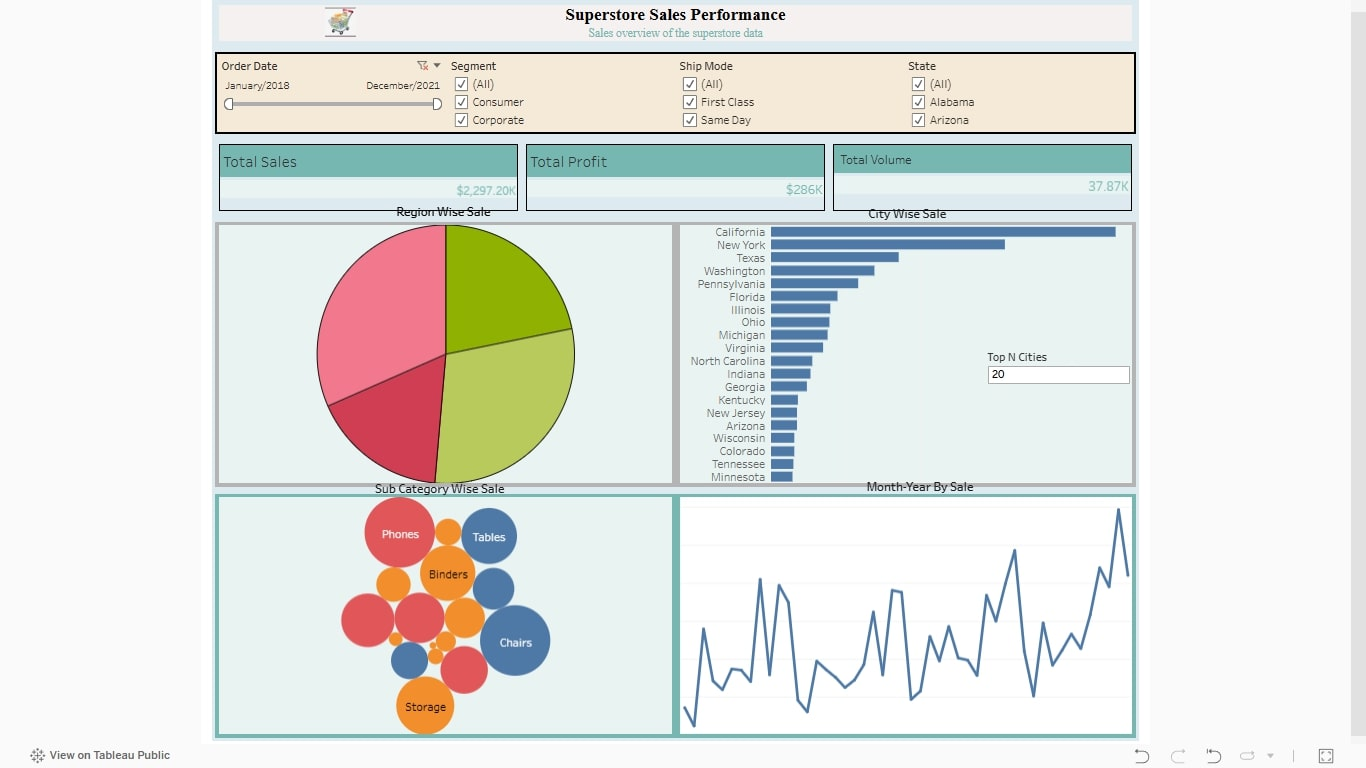

The page's visual inventory and layout, read from the dashboard file:
{"tool":"tableau","page":{"name":"Sales Dashboard","canvas":[1055,850],"ordinal":0},"visuals":[{"type":"text","box":[16,16,1023,45]},{"type":"image","param":"Image/Screenshot 2024-04-02 015648.png","box":[138,16,34,46]},{"type":"filter","title":"Total Profit","param":"[federated.1fn1odm17ox8tp1d4l00c0sakeex].[none:Order Date:qk]","box":[19,72,255,85]},{"type":"filter","title":"Total Profit","param":"[federated.1fn1odm17ox8tp1d4l00c0sakeex].[none:Segment:nk]","box":[274,72,254,85]},{"type":"filter","title":"Total Profit","param":"[federated.1fn1odm17ox8tp1d4l00c0sakeex].[none:Ship Mode:nk]","box":[528,72,254,85]},{"type":"filter","title":"Total Profit","param":"[federated.1fn1odm17ox8tp1d4l00c0sakeex].[none:State:nk]","box":[782,72,254,85]},{"type":"blank","box":[612,76,351,21]},{"type":"worksheet","title":"Total Sales ","mark":"Automatic","box":[16,168,341,82]},{"type":"worksheet","title":"Total Profit","mark":"Automatic","box":[357,168,341,82]},{"type":"worksheet","title":"Total Volume","mark":"Automatic","box":[698,168,341,82]},{"type":"text","box":[20,238,502,23]},{"type":"text","box":[533,241,504,20]},{"type":"worksheet","title":"Pie Chart","mark":"Pie","box":[16,258,512,294]},{"type":"worksheet","title":"Bar Chart","mark":"Automatic","rows":["State"],"cols":["Sales"],"box":[528,258,511,294]},{"type":"parameter","param":"[Parameters].[Parameter 1]","box":[874,402,160,44]},{"type":"text","box":[156,547,219,20]},{"type":"text","box":[688,548,225,14]},{"type":"worksheet","title":"Bubble Chart","mark":"Circle","box":[16,560,512,274]},{"type":"worksheet","title":"Line Chart","mark":"Automatic","rows":["Sales"],"cols":["Order Date"],"box":[528,560,511,274]}]}

Visuals, with their boxes in screenshot pixels (x1, y1, x2, y2):
text: pyautogui.locateOnScreen(217, 4, 1129, 44)
image: pyautogui.locateOnScreen(326, 4, 356, 45)
"Total Profit" filter: pyautogui.locateOnScreen(220, 54, 447, 129)
"Total Profit" filter: pyautogui.locateOnScreen(447, 54, 673, 129)
"Total Profit" filter: pyautogui.locateOnScreen(673, 54, 900, 129)
"Total Profit" filter: pyautogui.locateOnScreen(900, 54, 1126, 129)
blank: pyautogui.locateOnScreen(748, 57, 1061, 76)
"Total Sales " worksheet: pyautogui.locateOnScreen(217, 139, 521, 212)
"Total Profit" worksheet: pyautogui.locateOnScreen(521, 139, 825, 212)
"Total Volume" worksheet: pyautogui.locateOnScreen(825, 139, 1129, 212)
text: pyautogui.locateOnScreen(221, 201, 668, 222)
text: pyautogui.locateOnScreen(678, 204, 1127, 222)
"Pie Chart" worksheet (Pie marks): pyautogui.locateOnScreen(217, 219, 673, 481)
"Bar Chart" worksheet: pyautogui.locateOnScreen(673, 219, 1129, 481)
parameter: pyautogui.locateOnScreen(982, 348, 1125, 387)
text: pyautogui.locateOnScreen(342, 477, 537, 495)
text: pyautogui.locateOnScreen(816, 478, 1017, 490)
"Bubble Chart" worksheet (Circle marks): pyautogui.locateOnScreen(217, 489, 673, 733)
"Line Chart" worksheet: pyautogui.locateOnScreen(673, 489, 1129, 733)
